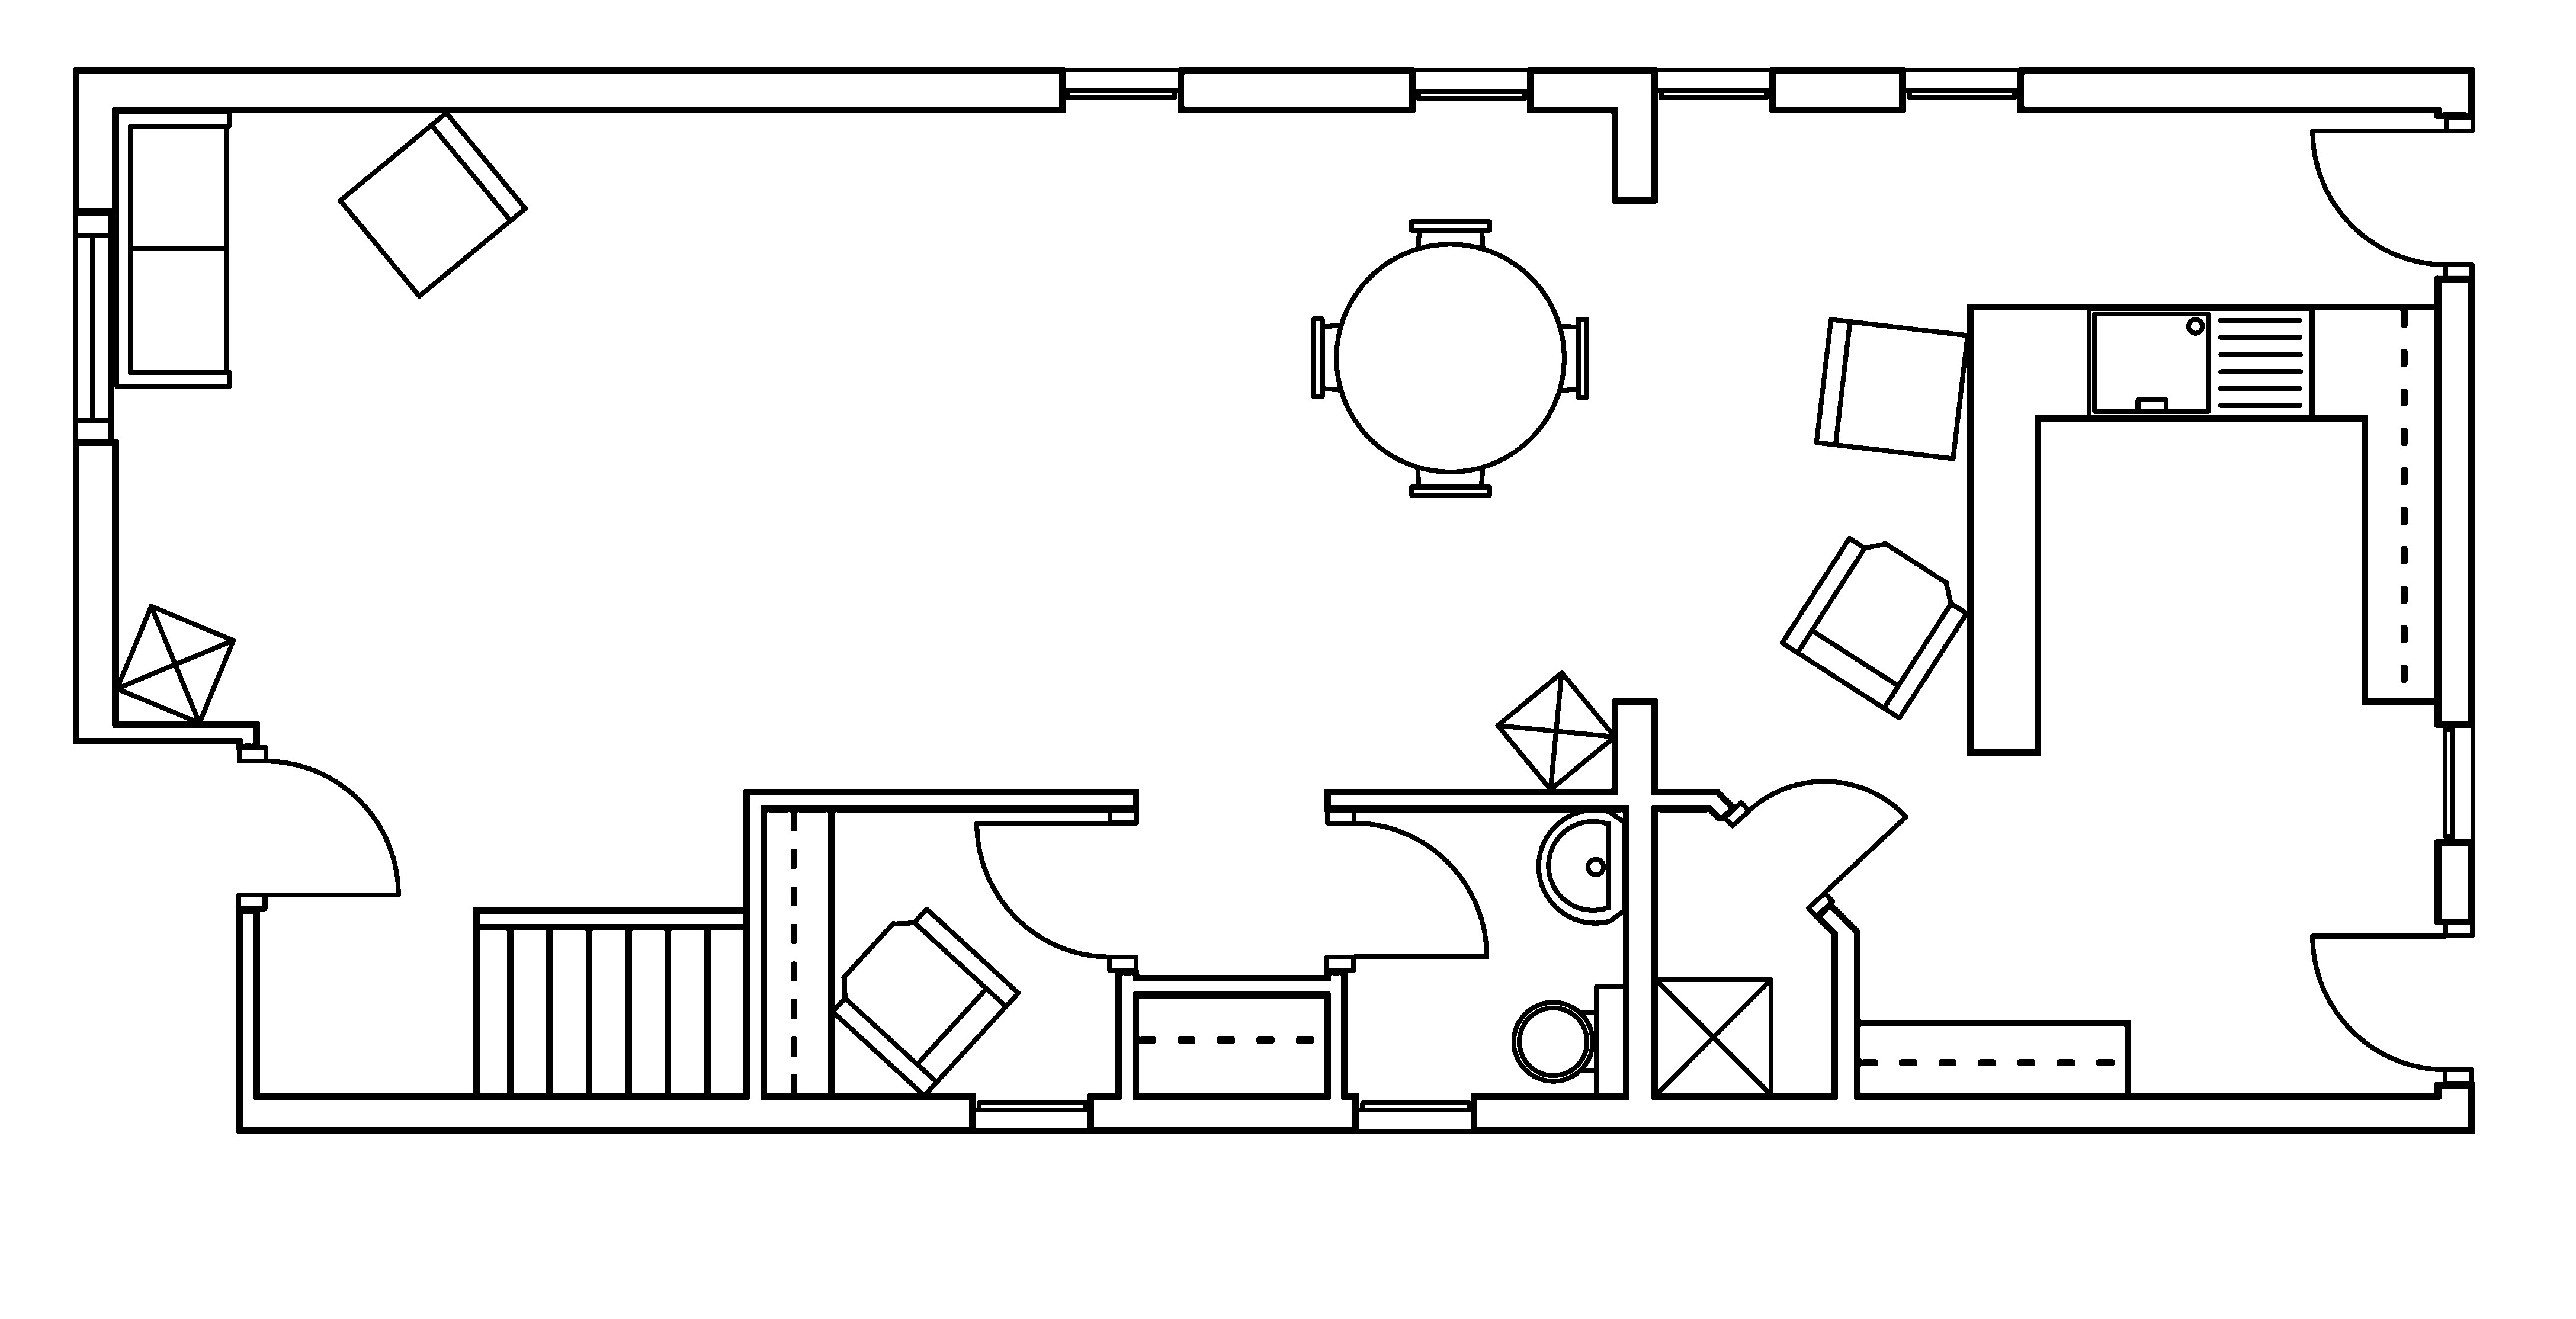armchair: (829, 905, 1021, 1099), (1779, 535, 1969, 720)
coffee_table: (1493, 670, 1618, 792), (113, 602, 235, 725), (1651, 976, 1774, 1097)
large_sink: (1512, 983, 1628, 1097)
large_sofa: (113, 108, 232, 389)
round_table: (1310, 219, 1589, 498)
sink: (2085, 305, 2314, 421)
small_sink: (1535, 808, 1628, 925)
small_sofa: (336, 109, 528, 298), (1813, 316, 1971, 461)
